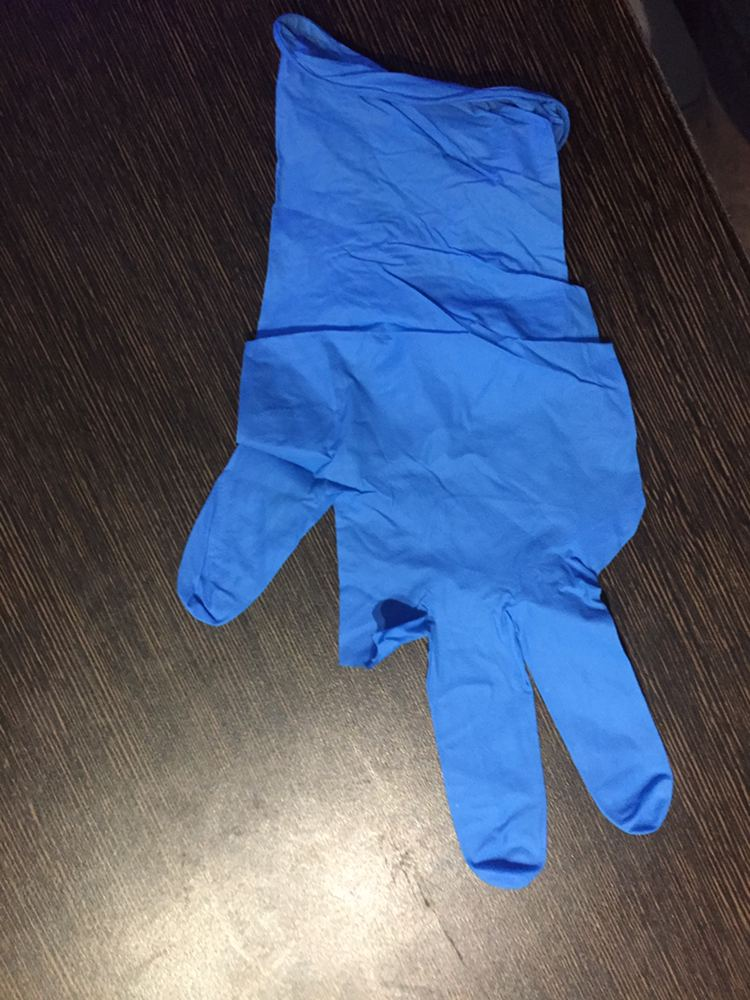defected: (159, 56, 701, 890)
